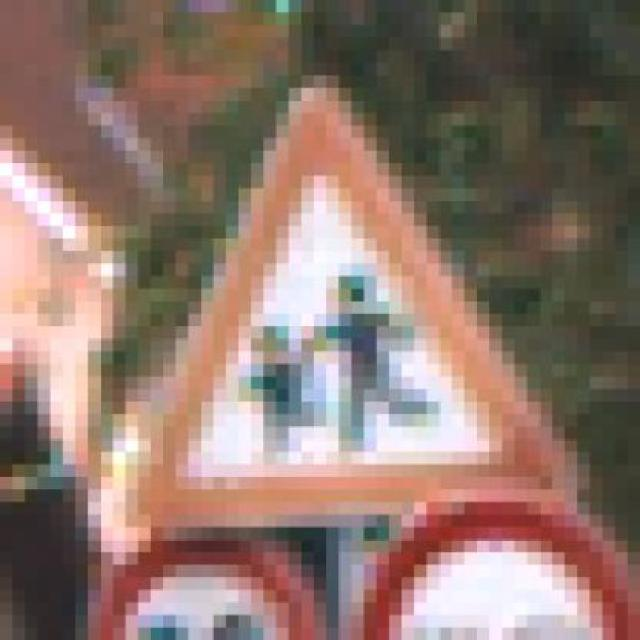Beware of children: (87, 63, 590, 540)
